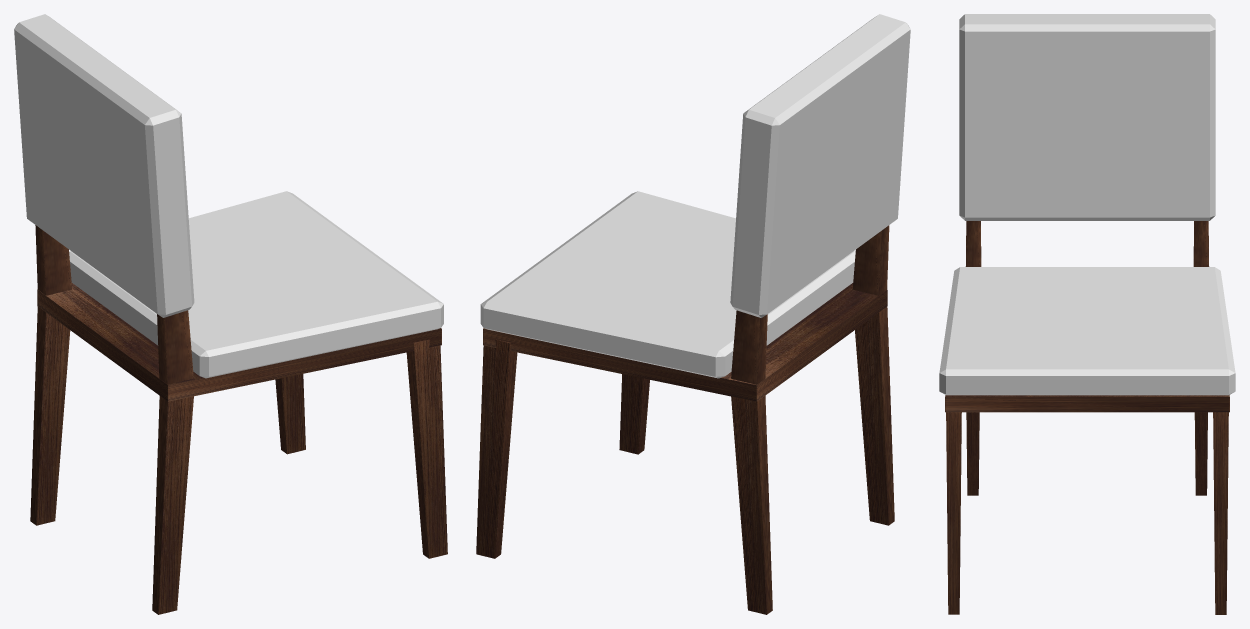
Rendered from silla cocina.fbx.
3 views of the same model, side by side, from view 1: azimuth 30°, elevation 25°; view 2: azimuth 150°, elevation 25°; view 3: azimuth 270°, elevation 25° (orthographic). The views are drawn at different scales.
Visible parts, largest first — view 1: Minimalist_Dining_Table:NullChair_2Foam5, Minimalist_Dining_Table:NullChair_2Foam_1, Minimalist_Dining_Table:NullChair_2Body1, Minimalist_Dining_Table:NullChair_2Body1Cube_42, Minimalist_Dining_Table:NullChair_2Body1Cube_44, Minimalist_Dining_Table:NullChair_2Body1Cube_41, Minimalist_Dining_Table:NullChair_2Body1Cube5, Minimalist_Dining_Table:NullChair_2Body1Cube_43, Minimalist_Dining_Table:NullChair_2Body1Cube_5; view 2: Minimalist_Dining_Table:NullChair_2Foam5, Minimalist_Dining_Table:NullChair_2Foam_1, Minimalist_Dining_Table:NullChair_2Body1, Minimalist_Dining_Table:NullChair_2Body1Cube_41, Minimalist_Dining_Table:NullChair_2Body1Cube_43, Minimalist_Dining_Table:NullChair_2Body1Cube_42, Minimalist_Dining_Table:NullChair_2Body1Cube_5, Minimalist_Dining_Table:NullChair_2Body1Cube_44, Minimalist_Dining_Table:NullChair_2Body1Cube5; view 3: Minimalist_Dining_Table:NullChair_2Foam5, Minimalist_Dining_Table:NullChair_2Foam_1, Minimalist_Dining_Table:NullChair_2Body1, Minimalist_Dining_Table:NullChair_2Body1Cube_43, Minimalist_Dining_Table:NullChair_2Body1Cube_44, Minimalist_Dining_Table:NullChair_2Body1Cube_41, Minimalist_Dining_Table:NullChair_2Body1Cube_42, Minimalist_Dining_Table:NullChair_2Body1Cube_5, Minimalist_Dining_Table:NullChair_2Body1Cube5.
Boxes of the visible parts, x1,y1,x2,y2 form: Minimalist_Dining_Table:NullChair_2Foam5: [14, 14, 194, 317]; Minimalist_Dining_Table:NullChair_2Foam_1: [69, 191, 443, 378]; Minimalist_Dining_Table:NullChair_2Body1: [37, 283, 441, 401]; Minimalist_Dining_Table:NullChair_2Body1Cube_42: [152, 396, 193, 614]; Minimalist_Dining_Table:NullChair_2Body1Cube_44: [406, 339, 447, 558]; Minimalist_Dining_Table:NullChair_2Body1Cube_41: [30, 306, 70, 525]; Minimalist_Dining_Table:NullChair_2Body1Cube5: [157, 310, 193, 384]; Minimalist_Dining_Table:NullChair_2Body1Cube_43: [275, 374, 305, 454]; Minimalist_Dining_Table:NullChair_2Body1Cube_5: [35, 225, 71, 295]; Minimalist_Dining_Table:NullChair_2Foam5: [730, 14, 910, 317]; Minimalist_Dining_Table:NullChair_2Foam_1: [480, 191, 855, 378]; Minimalist_Dining_Table:NullChair_2Body1: [483, 283, 887, 401]; Minimalist_Dining_Table:NullChair_2Body1Cube_41: [731, 395, 772, 614]; Minimalist_Dining_Table:NullChair_2Body1Cube_43: [476, 339, 517, 558]; Minimalist_Dining_Table:NullChair_2Body1Cube_42: [855, 306, 894, 525]; Minimalist_Dining_Table:NullChair_2Body1Cube_5: [731, 310, 767, 384]; Minimalist_Dining_Table:NullChair_2Body1Cube_44: [619, 374, 649, 454]; Minimalist_Dining_Table:NullChair_2Body1Cube5: [852, 225, 889, 295]; Minimalist_Dining_Table:NullChair_2Foam5: [959, 14, 1215, 220]; Minimalist_Dining_Table:NullChair_2Foam_1: [939, 267, 1235, 395]; Minimalist_Dining_Table:NullChair_2Body1: [945, 395, 1229, 412]; Minimalist_Dining_Table:NullChair_2Body1Cube_43: [1213, 412, 1228, 614]; Minimalist_Dining_Table:NullChair_2Body1Cube_44: [946, 412, 961, 614]; Minimalist_Dining_Table:NullChair_2Body1Cube_41: [1194, 412, 1207, 495]; Minimalist_Dining_Table:NullChair_2Body1Cube_42: [966, 412, 979, 495]; Minimalist_Dining_Table:NullChair_2Body1Cube_5: [1193, 221, 1209, 266]; Minimalist_Dining_Table:NullChair_2Body1Cube5: [965, 221, 981, 266].
Size of the model in its own units: 55.98 by 91.13 by 52.
